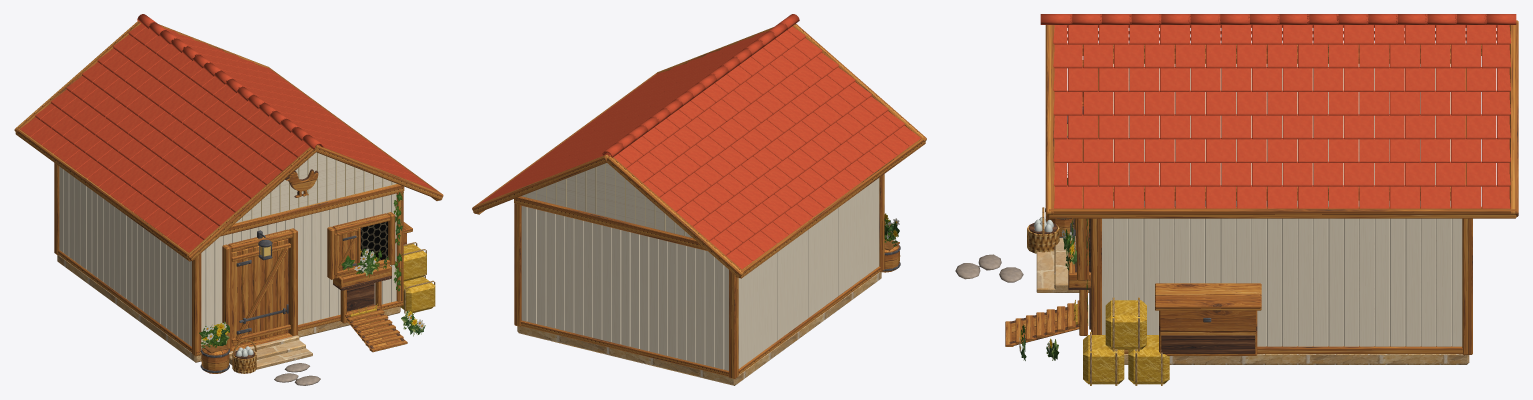
Rendered from CoopExterior_Cozy_LOD0.fbx.
3 renders of one model, left to right at view 1: azimuth 30°, elevation 25°; view 2: azimuth 150°, elevation 25°; view 3: azimuth 270°, elevation 25°, orthographic. The views are drawn at different scales.
Parts seen in each view (by area): view 1: CoopExterior_Cozy_LOD0; view 2: CoopExterior_Cozy_LOD0; view 3: CoopExterior_Cozy_LOD0.
Part boxes in pixels (x1,y1,x2,y2): CoopExterior_Cozy_LOD0: (14,14,443,385); CoopExterior_Cozy_LOD0: (472,14,926,385); CoopExterior_Cozy_LOD0: (955,14,1518,385).
Bounding box in the file's own units: 7.78 × 5.92 × 10.66.
